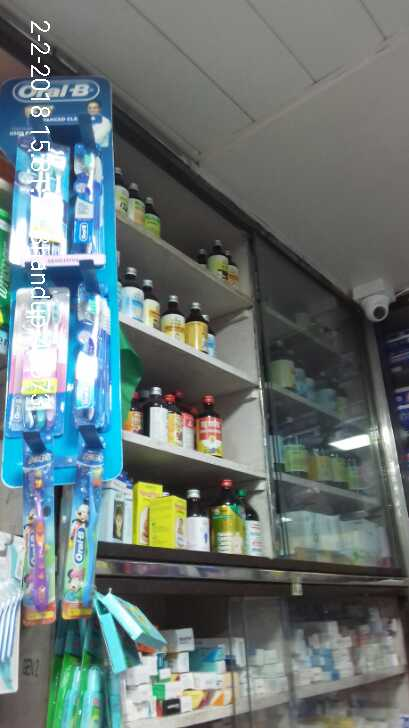oralb: (12, 299, 66, 422), (11, 144, 66, 261), (24, 461, 63, 614), (64, 466, 98, 618), (81, 295, 120, 419), (79, 154, 98, 254)
